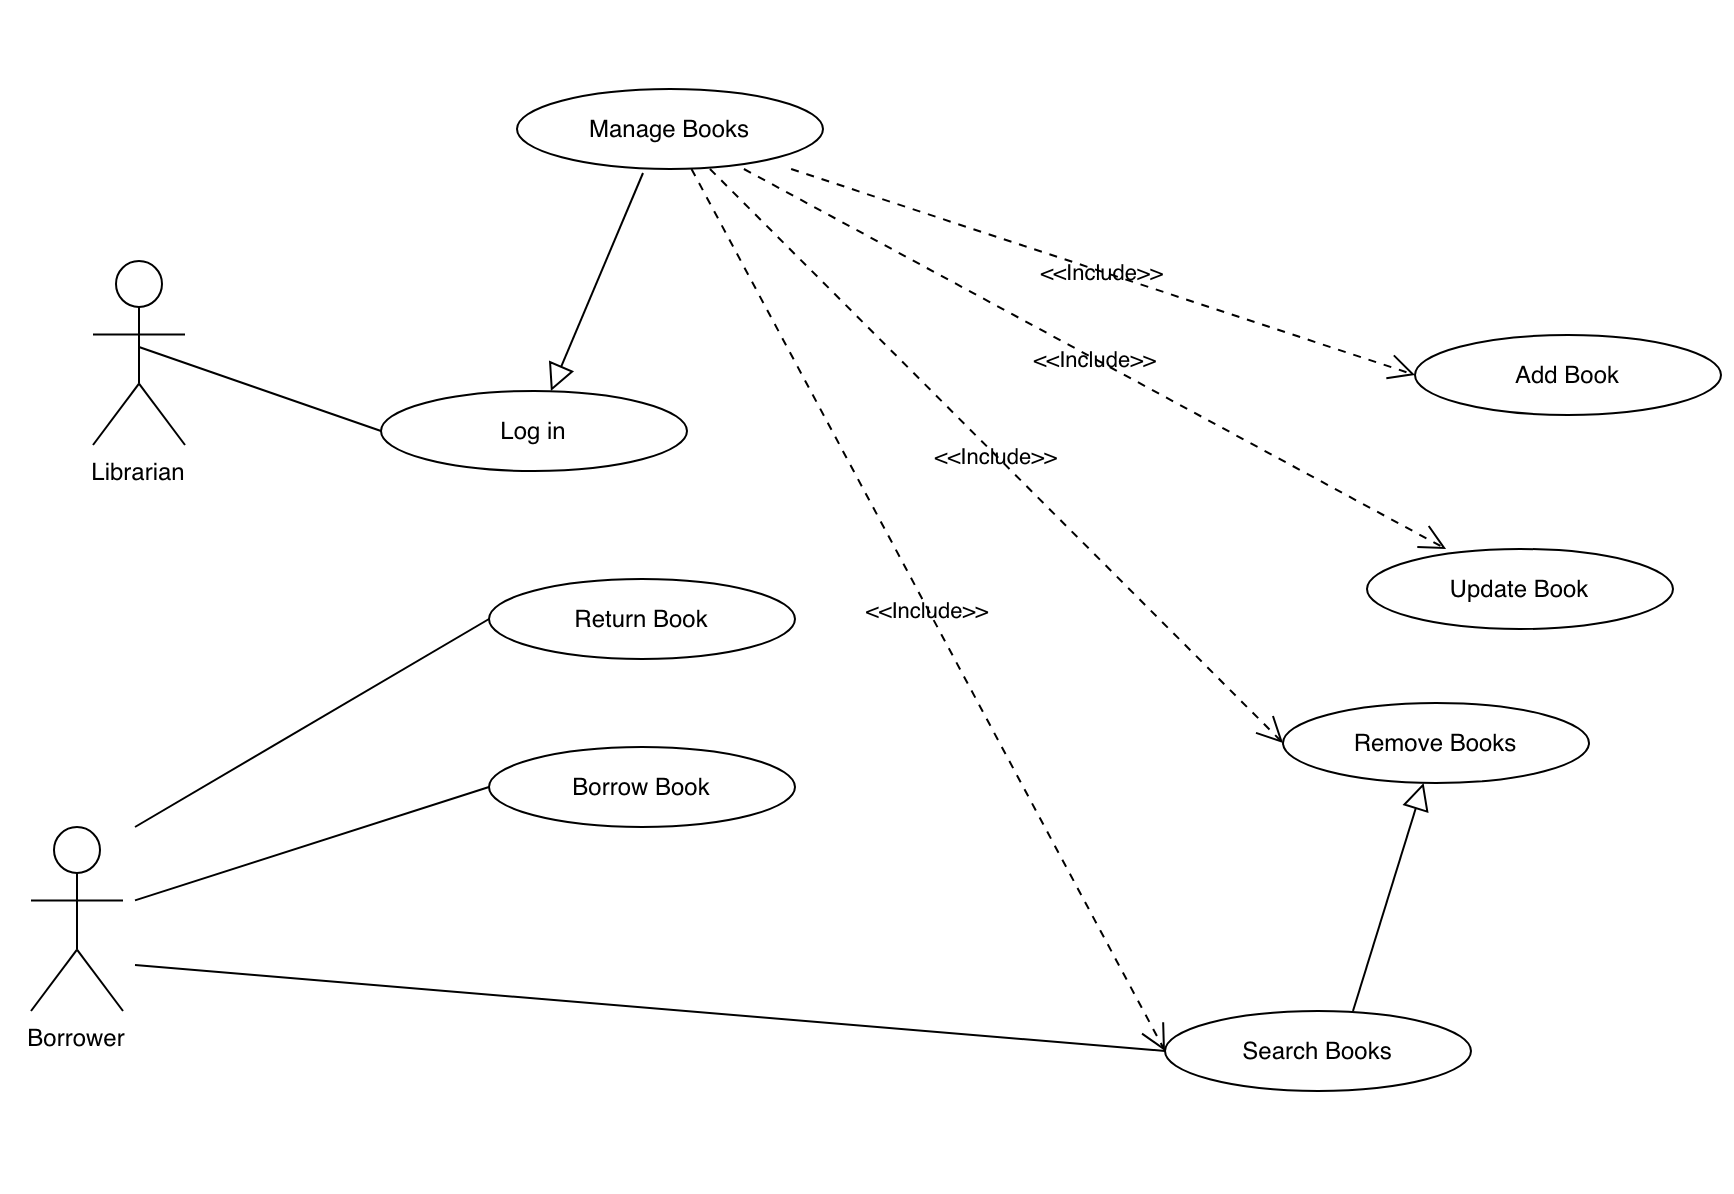actor: (26, 822, 129, 1017), (91, 256, 191, 448)
association: (690, 169, 1169, 1056), (708, 163, 1283, 747), (744, 167, 1445, 551), (788, 163, 1415, 384), (132, 963, 1169, 1056), (134, 617, 488, 829), (133, 782, 489, 905), (138, 344, 379, 432)
generalization: (548, 169, 646, 391), (1349, 784, 1432, 1015)
text: (1235, 1035, 1406, 1071), (1349, 726, 1526, 759), (584, 109, 752, 144), (1445, 571, 1600, 608), (569, 602, 714, 640), (567, 770, 719, 805), (1030, 341, 1158, 376), (1505, 356, 1627, 389), (932, 440, 1061, 470), (83, 453, 192, 489), (860, 596, 993, 625), (1036, 260, 1167, 287), (30, 1023, 126, 1054), (493, 416, 574, 448)
use_case: (485, 741, 801, 832), (377, 384, 690, 474), (1409, 331, 1723, 420), (486, 577, 800, 666), (1165, 1007, 1473, 1096), (514, 84, 826, 173), (1365, 546, 1676, 634), (1278, 698, 1592, 785)
